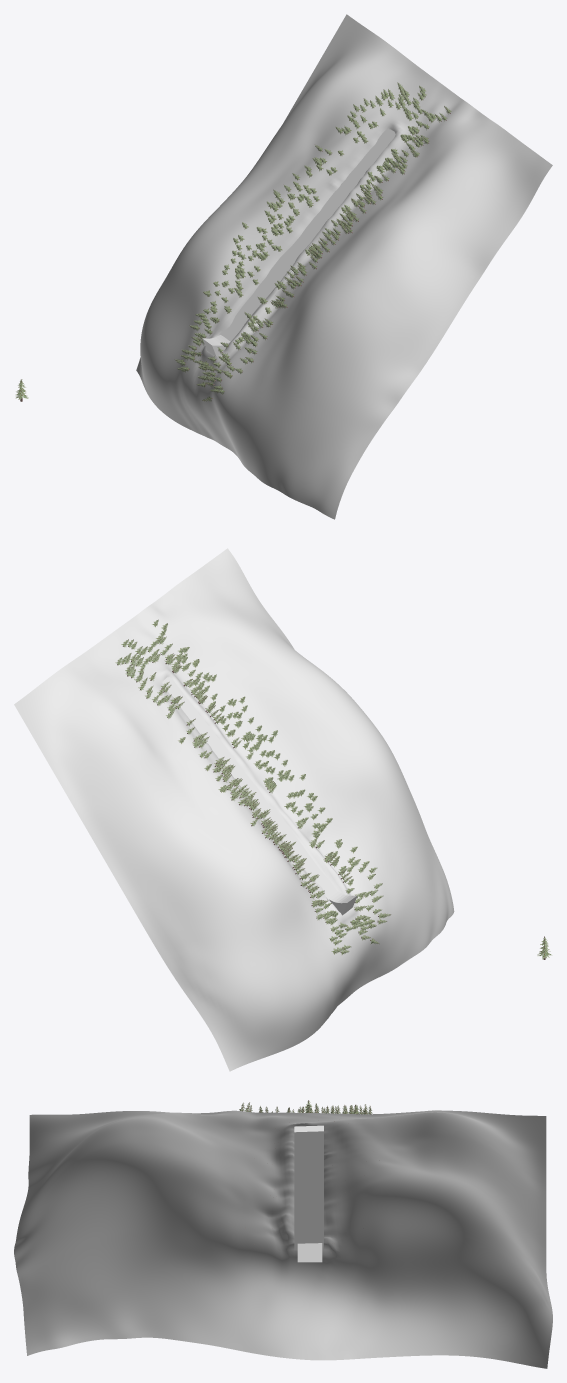
The model's file is terrainfixed2.fbx.
The picture shows the model from 3 angles, top to bottom: view 1: azimuth 30°, elevation 25°; view 2: azimuth 150°, elevation 25°; view 3: azimuth 270°, elevation 25°; orthographic projection. The views are drawn at different scales.
Parts seen in each view (by area): view 1: Landscape.002, Cube; view 2: Landscape.002, Cube; view 3: Landscape.002, Cube, Cube.002.
Boxes of the visible parts, bbox=[...] form: Landscape.002: bbox=[136, 14, 552, 519]; Cube: bbox=[219, 128, 395, 341]; Landscape.002: bbox=[14, 548, 454, 1071]; Cube: bbox=[162, 677, 337, 900]; Landscape.002: bbox=[14, 1110, 552, 1368]; Cube: bbox=[294, 1125, 323, 1250]; Cube.002: bbox=[297, 1243, 322, 1262].
Size of what is drawn, in the model's own units: 19616 by 13602 by 17197.
